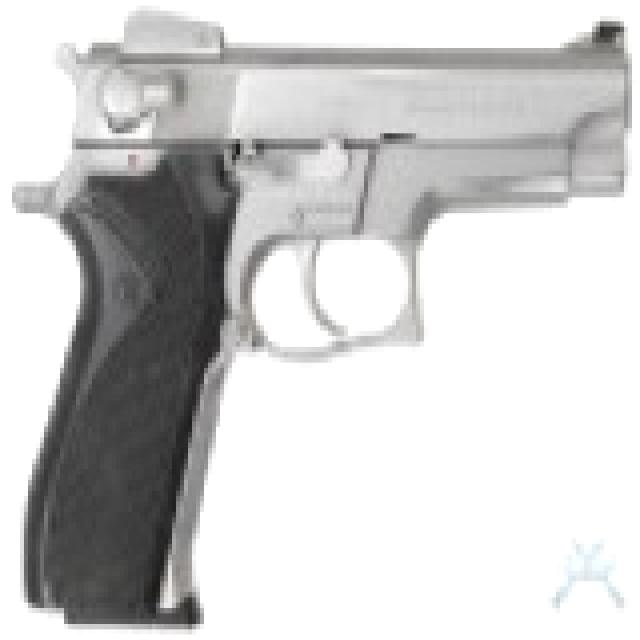pistol: (24, 21, 628, 630)
